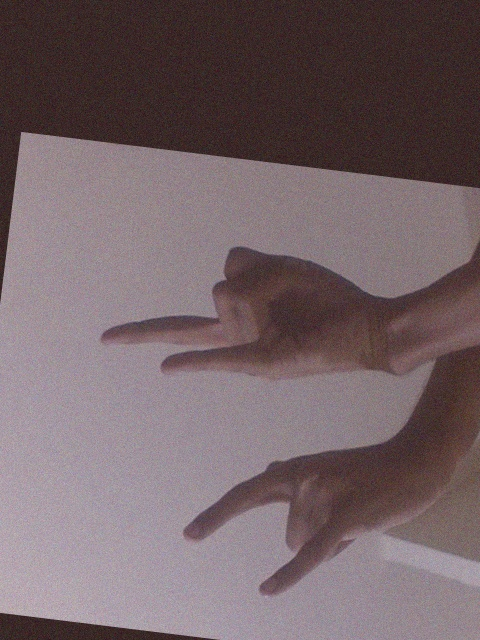hand: (179, 438, 449, 602), (96, 243, 395, 386)
